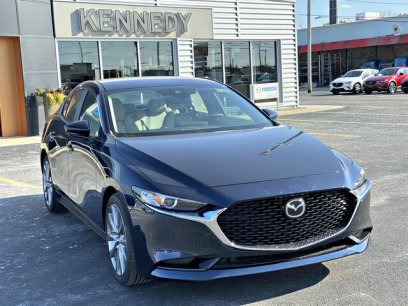Mazda3 Hatchback: (40, 75, 373, 288)
